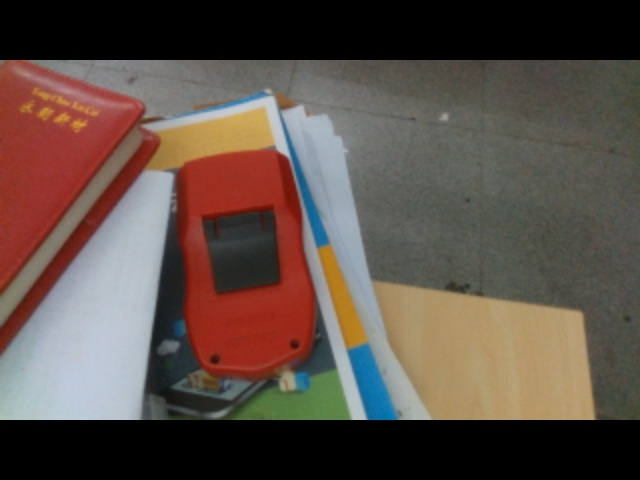Multimeter: (175, 146, 317, 375)
Screw holes: (208, 352, 222, 366), (289, 339, 302, 350)
